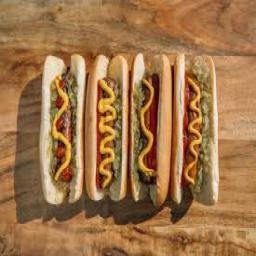hotdog: (173, 44, 220, 214), (40, 50, 84, 211), (130, 46, 172, 209), (86, 52, 128, 210)
